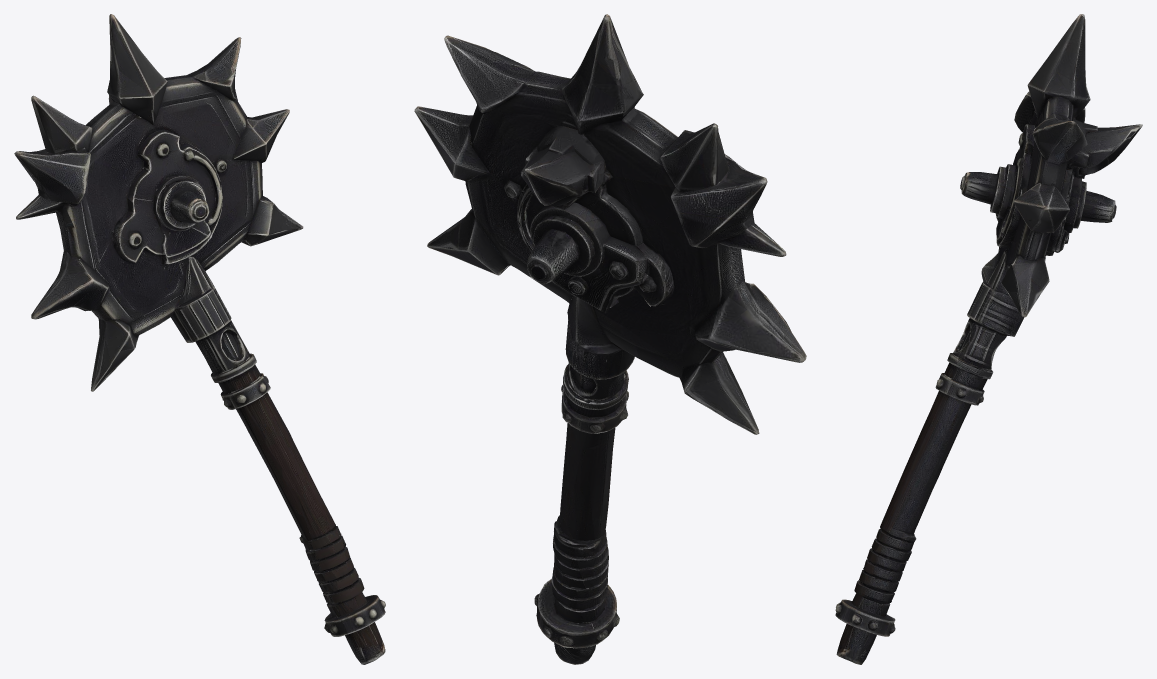
File: mace.glb
The picture shows the model from 3 angles, left to right: view 1: azimuth 30°, elevation 25°; view 2: azimuth 150°, elevation 25°; view 3: azimuth 270°, elevation 25°; orthographic projection. The views are drawn at different scales.
Visible parts, largest first — view 1: mace; view 2: mace; view 3: mace.
Boxes of the visible parts, x1,y1,x2,y2 form: mace: [14, 14, 385, 664]; mace: [414, 14, 806, 664]; mace: [835, 14, 1142, 664].
Size of the model in its own units: 0.3868 by 0.8 by 0.3822.
1 material, 1 textured.
